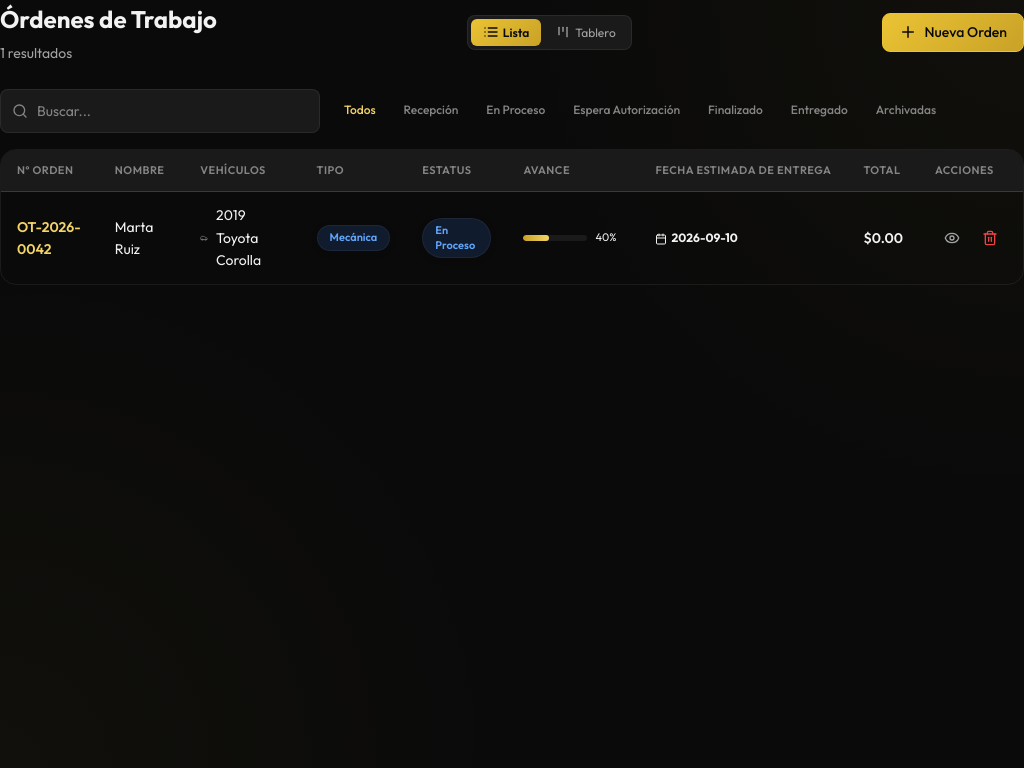
it: WorkOrders › does not re-query the board just because the screen re-renders
Click the button "Nueva Orden" at (953, 32), box [882,13,1023,52]
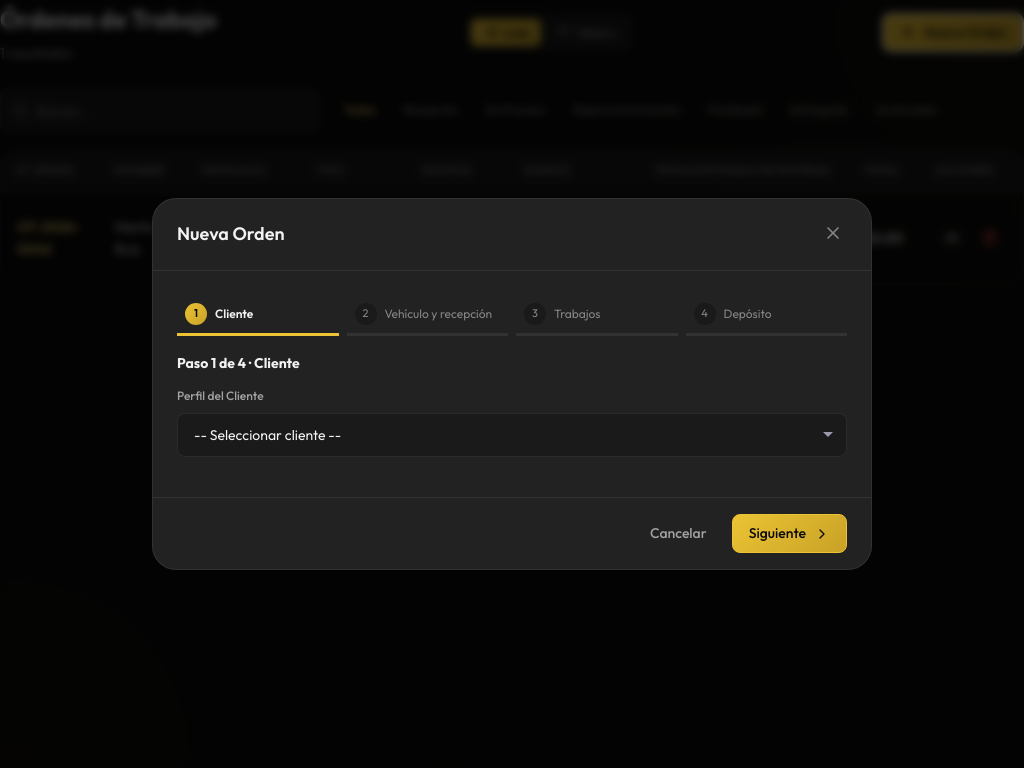
Expected: the heading "Nueva Orden" is shown, [177,220,284,249]
